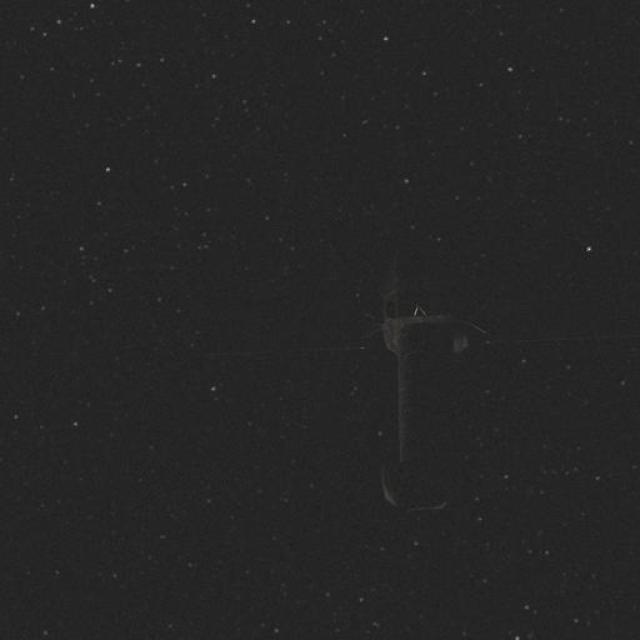xmm_newton: (311, 229, 477, 541)
